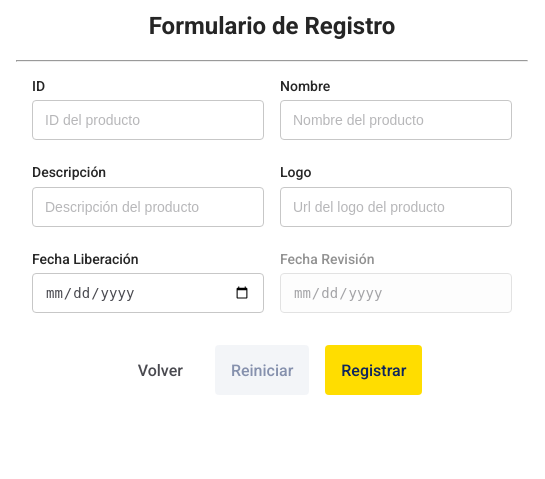
Create Product component › Fields validation › Register button should be disabled when errors are present
The width and height of the screenshot is (545, 479).
Click the button "Registrar" at (374, 370), box x1=325 y1=345 x2=422 y2=395
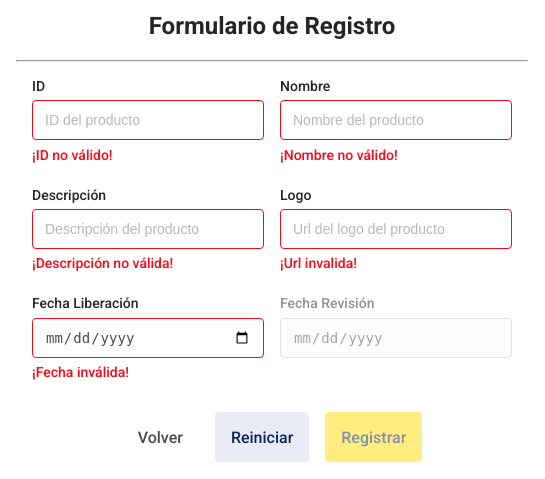
Now the button "Registrar" is disabled, box x1=325 y1=412 x2=422 y2=462
